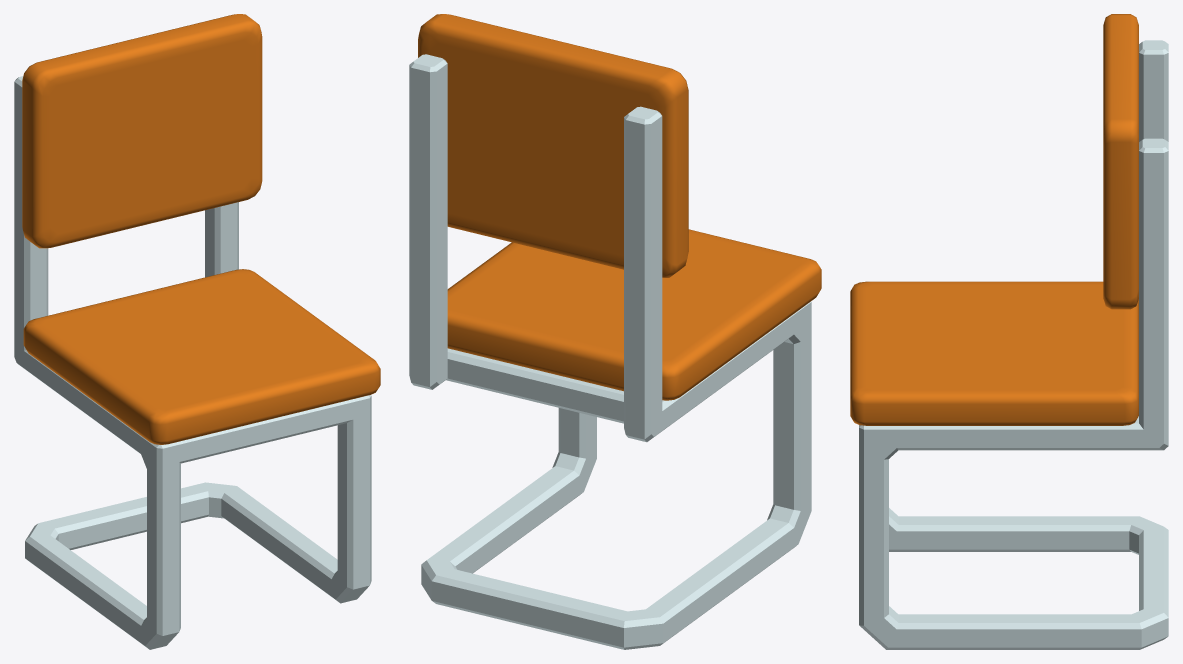
File: sm_Chair_A_01.fbx
The picture shows the model from 3 angles, left to right: view 1: azimuth 30°, elevation 25°; view 2: azimuth 150°, elevation 25°; view 3: azimuth 270°, elevation 25°; orthographic projection. The views are drawn at different scales.
Visible parts, largest first — view 1: Chair_A_01; view 2: Chair_A_01; view 3: Chair_A_01.
Boxes of the visible parts, x1,y1,x2,y2 form: Chair_A_01: (14,14,380,649); Chair_A_01: (409,14,821,649); Chair_A_01: (850,14,1168,649).
Size of the model in its own units: 47 by 98.09 by 53.5.
